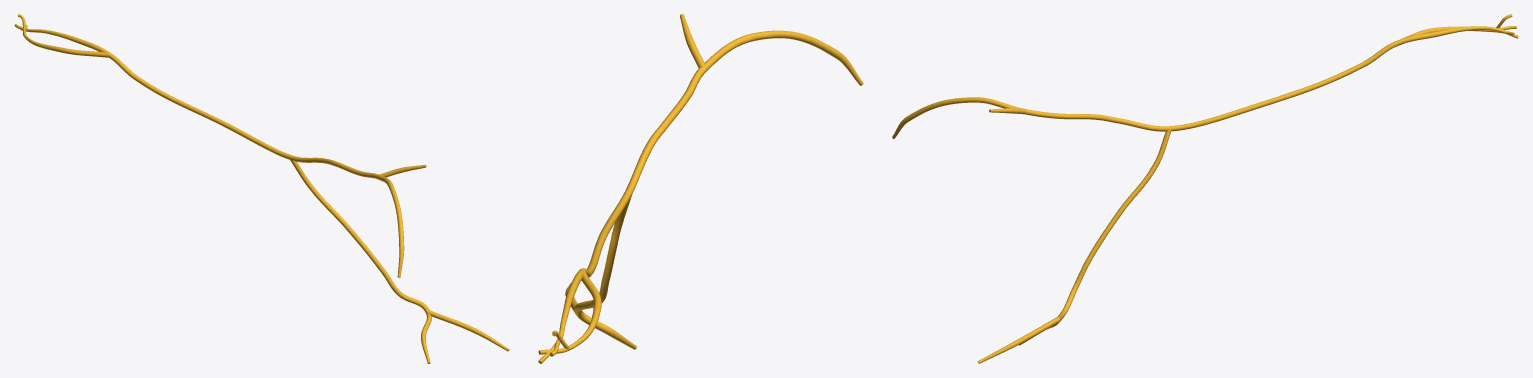
File: nervoso-oculomotor-nerve-iii-l.glb
3 renders of one model, left to right at view 1: azimuth 30°, elevation 25°; view 2: azimuth 150°, elevation 25°; view 3: azimuth 270°, elevation 25°, orthographic. The views are drawn at different scales.
Parts seen in each view (by area): view 1: Oculomotor nerve (III).l; view 2: Oculomotor nerve (III).l; view 3: Oculomotor nerve (III).l.
Part boxes in pixels (x1,y1,x2,y2): Oculomotor nerve (III).l: (14,14,509,363); Oculomotor nerve (III).l: (538,14,863,363); Oculomotor nerve (III).l: (892,14,1518,363).
Size of the model in its own units: 0.0389 by 0.0341 by 0.0813.
